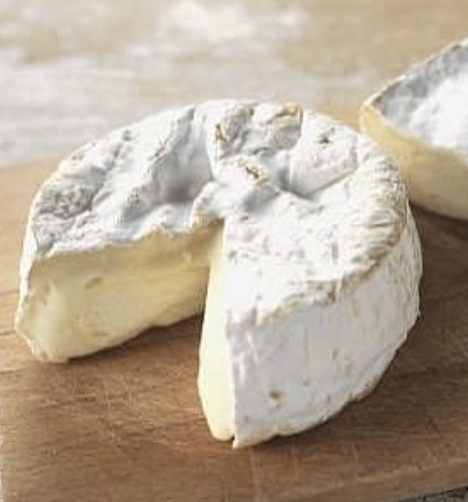camembert: (14, 97, 425, 449)
